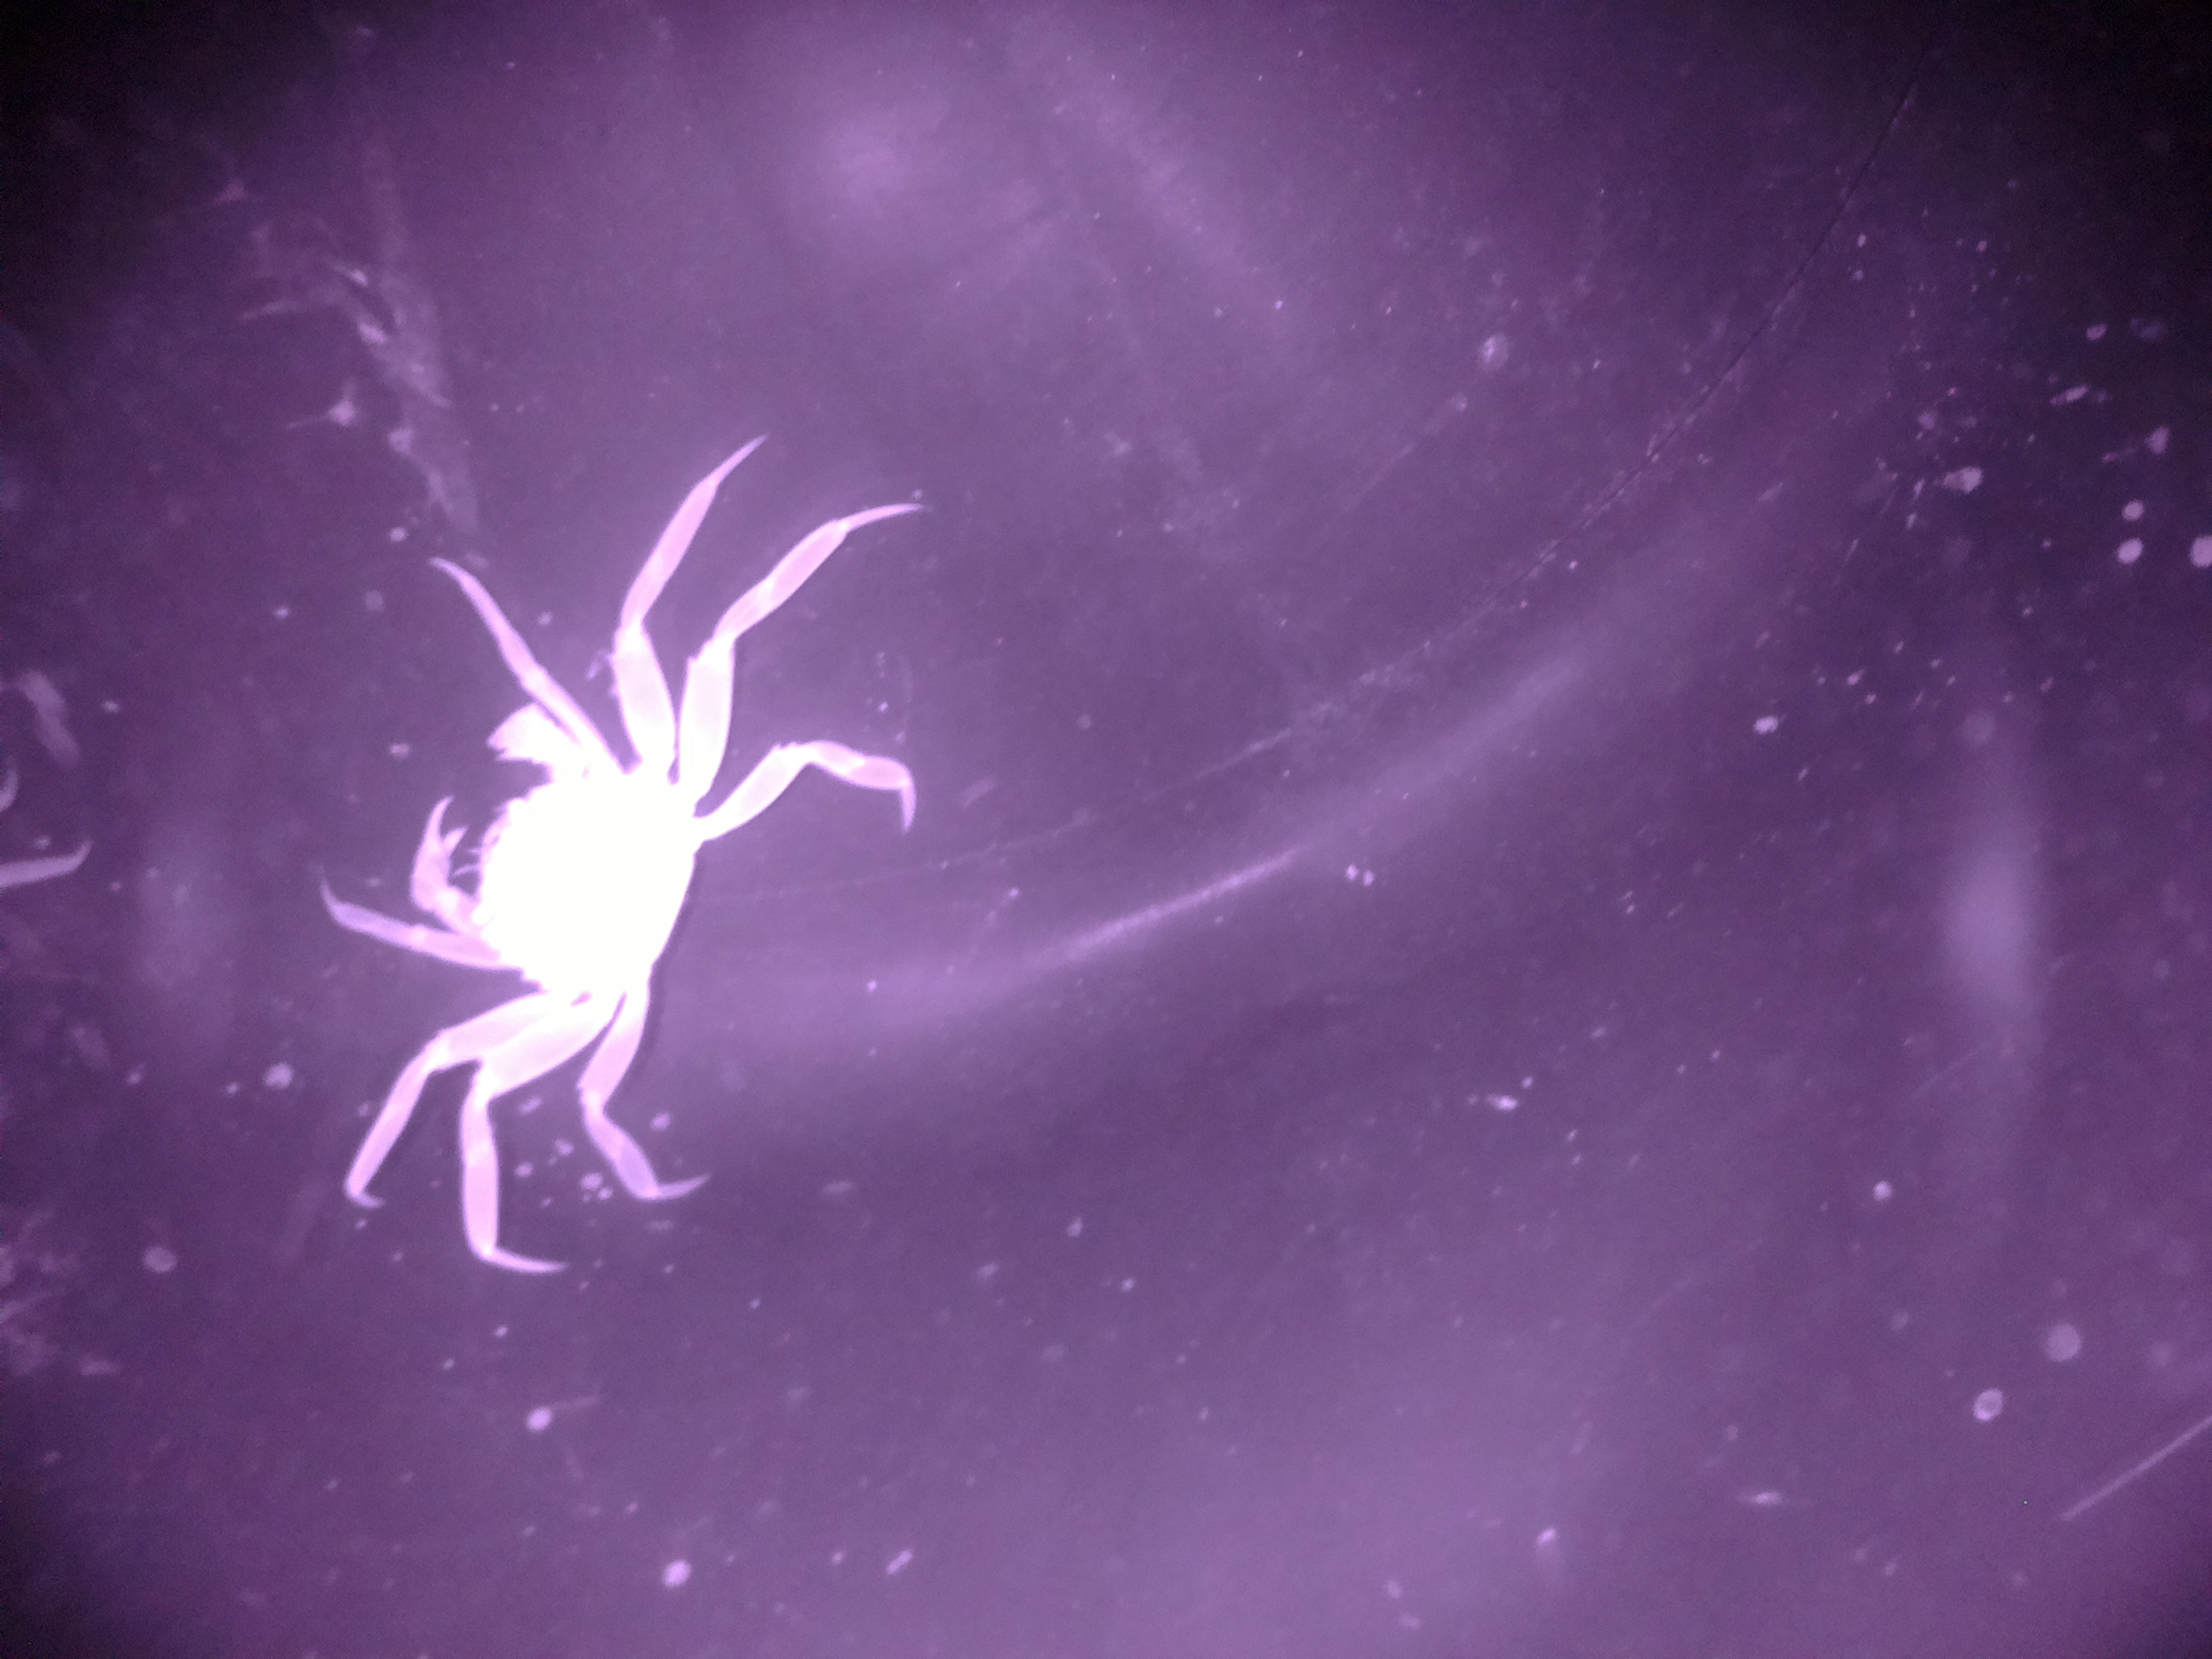Crab: (307, 587, 831, 1169)
